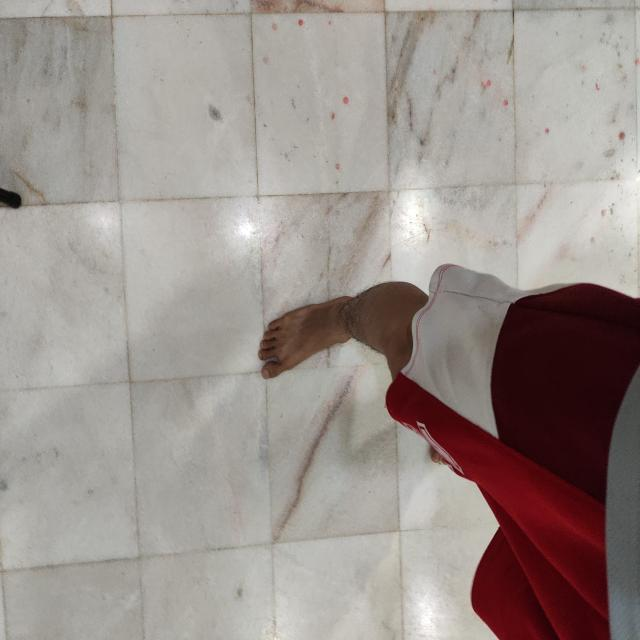No_Shoes: (248, 274, 384, 381)
